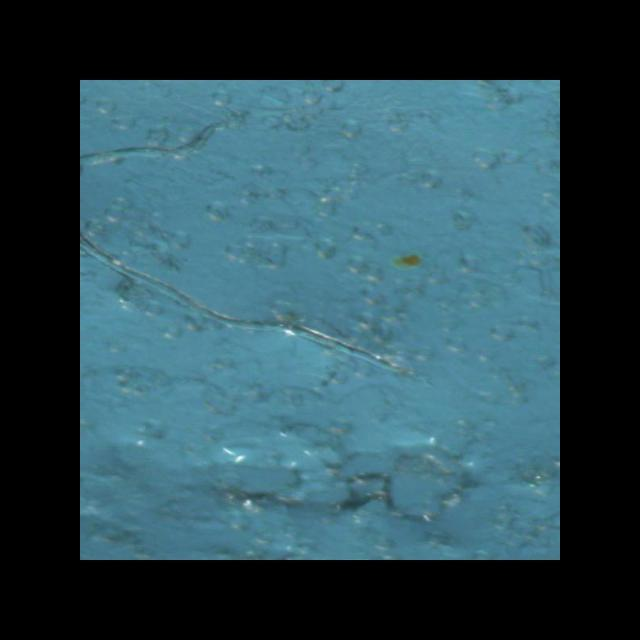Fibre: (80, 106, 417, 378)
